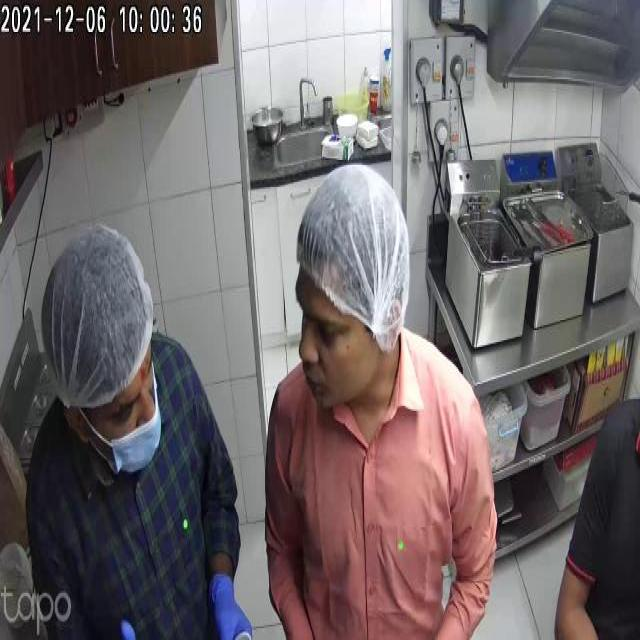hairnet: (302, 166, 407, 340), (43, 232, 143, 395)
